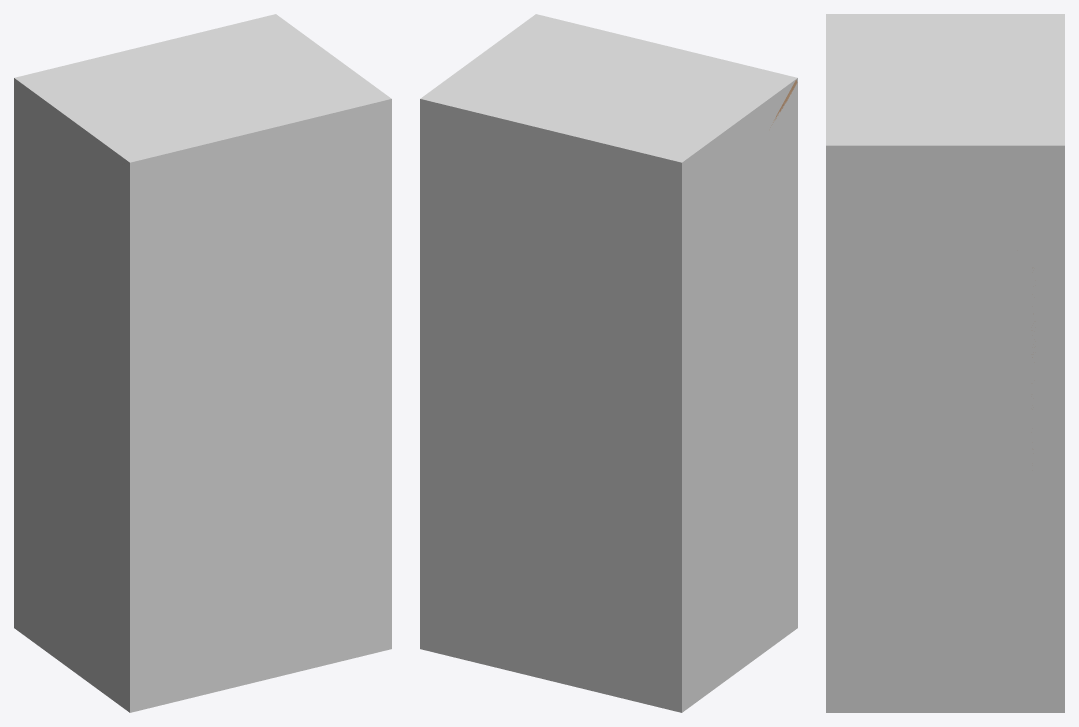
The model's file is ExRo_Podium.gltf.
3 renders of one model, left to right at view 1: azimuth 30°, elevation 25°; view 2: azimuth 150°, elevation 25°; view 3: azimuth 270°, elevation 25°, orthographic. The views are drawn at different scales.
Parts seen in each view (by area): view 1: ExRo_Podium_bcol; view 2: ExRo_Podium_bcol; view 3: ExRo_Podium_bcol.
Part boxes in pixels (box(x1,y1,x2,y2)): ExRo_Podium_bcol: box(14, 14, 391, 712); ExRo_Podium_bcol: box(420, 14, 797, 712); ExRo_Podium_bcol: box(826, 14, 1064, 712).
Size of the model in its own units: 0.75 by 1.51 by 0.5751.
Materials: 3 (2 with a texture image).
